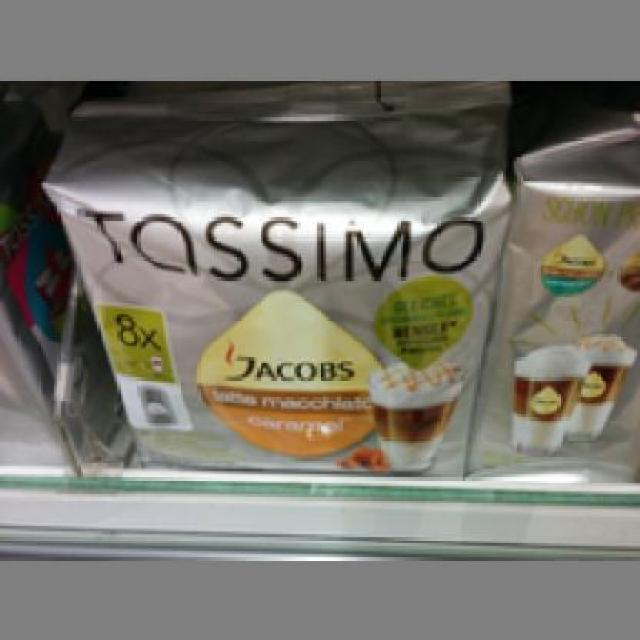Coffee: (40, 77, 520, 466), (477, 102, 637, 475)
